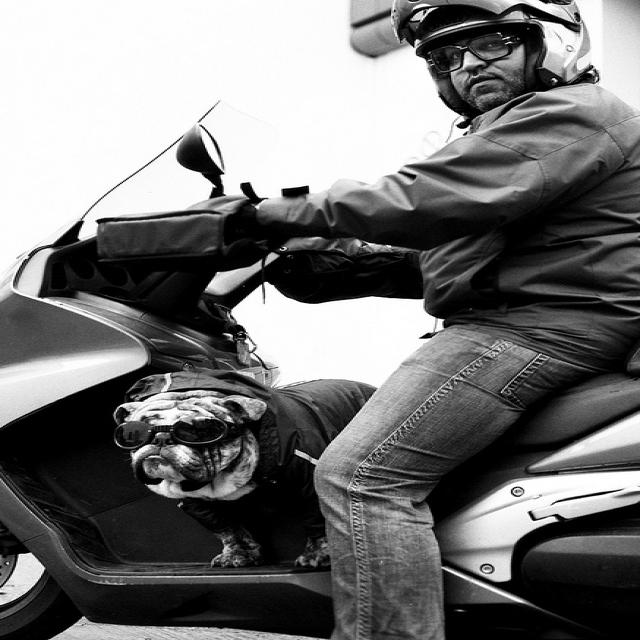motor: (0, 102, 640, 639)
